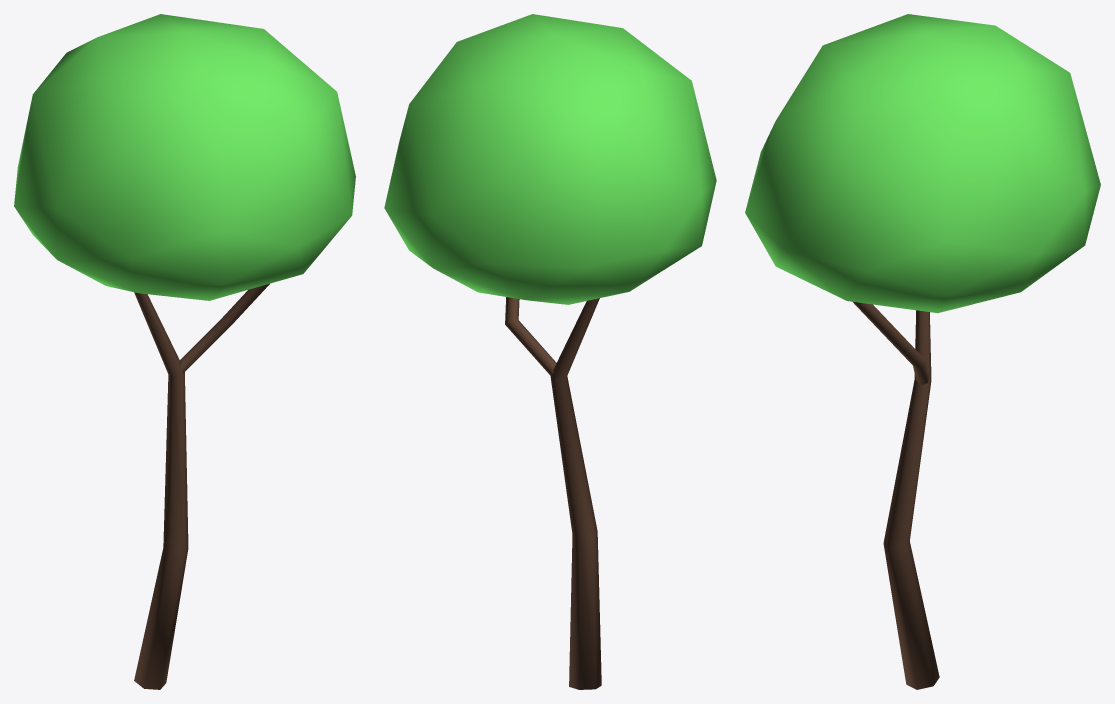
Rendered from RoundTree_Medium1.fbx.
The picture shows the model from 3 angles, left to right: view 1: azimuth 30°, elevation 25°; view 2: azimuth 150°, elevation 25°; view 3: azimuth 270°, elevation 25°; orthographic projection. The views are drawn at different scales.
Visible parts, largest first — view 1: RoundTree_Medium1.001, RoundTree_Medium1; view 2: RoundTree_Medium1.001, RoundTree_Medium1; view 3: RoundTree_Medium1.001, RoundTree_Medium1.
Boxes of the visible parts, x1=… form: RoundTree_Medium1.001: x1=14, y1=14, x2=355, y2=300; RoundTree_Medium1: x1=134, y1=283, x2=269, y2=689; RoundTree_Medium1.001: x1=384, y1=14, x2=716, y2=304; RoundTree_Medium1: x1=505, y1=297, x2=601, y2=689; RoundTree_Medium1.001: x1=745, y1=14, x2=1100, y2=313; RoundTree_Medium1: x1=852, y1=301, x2=939, y2=689.
Bounding box in the file's own units: 504 × 1082 × 522.
